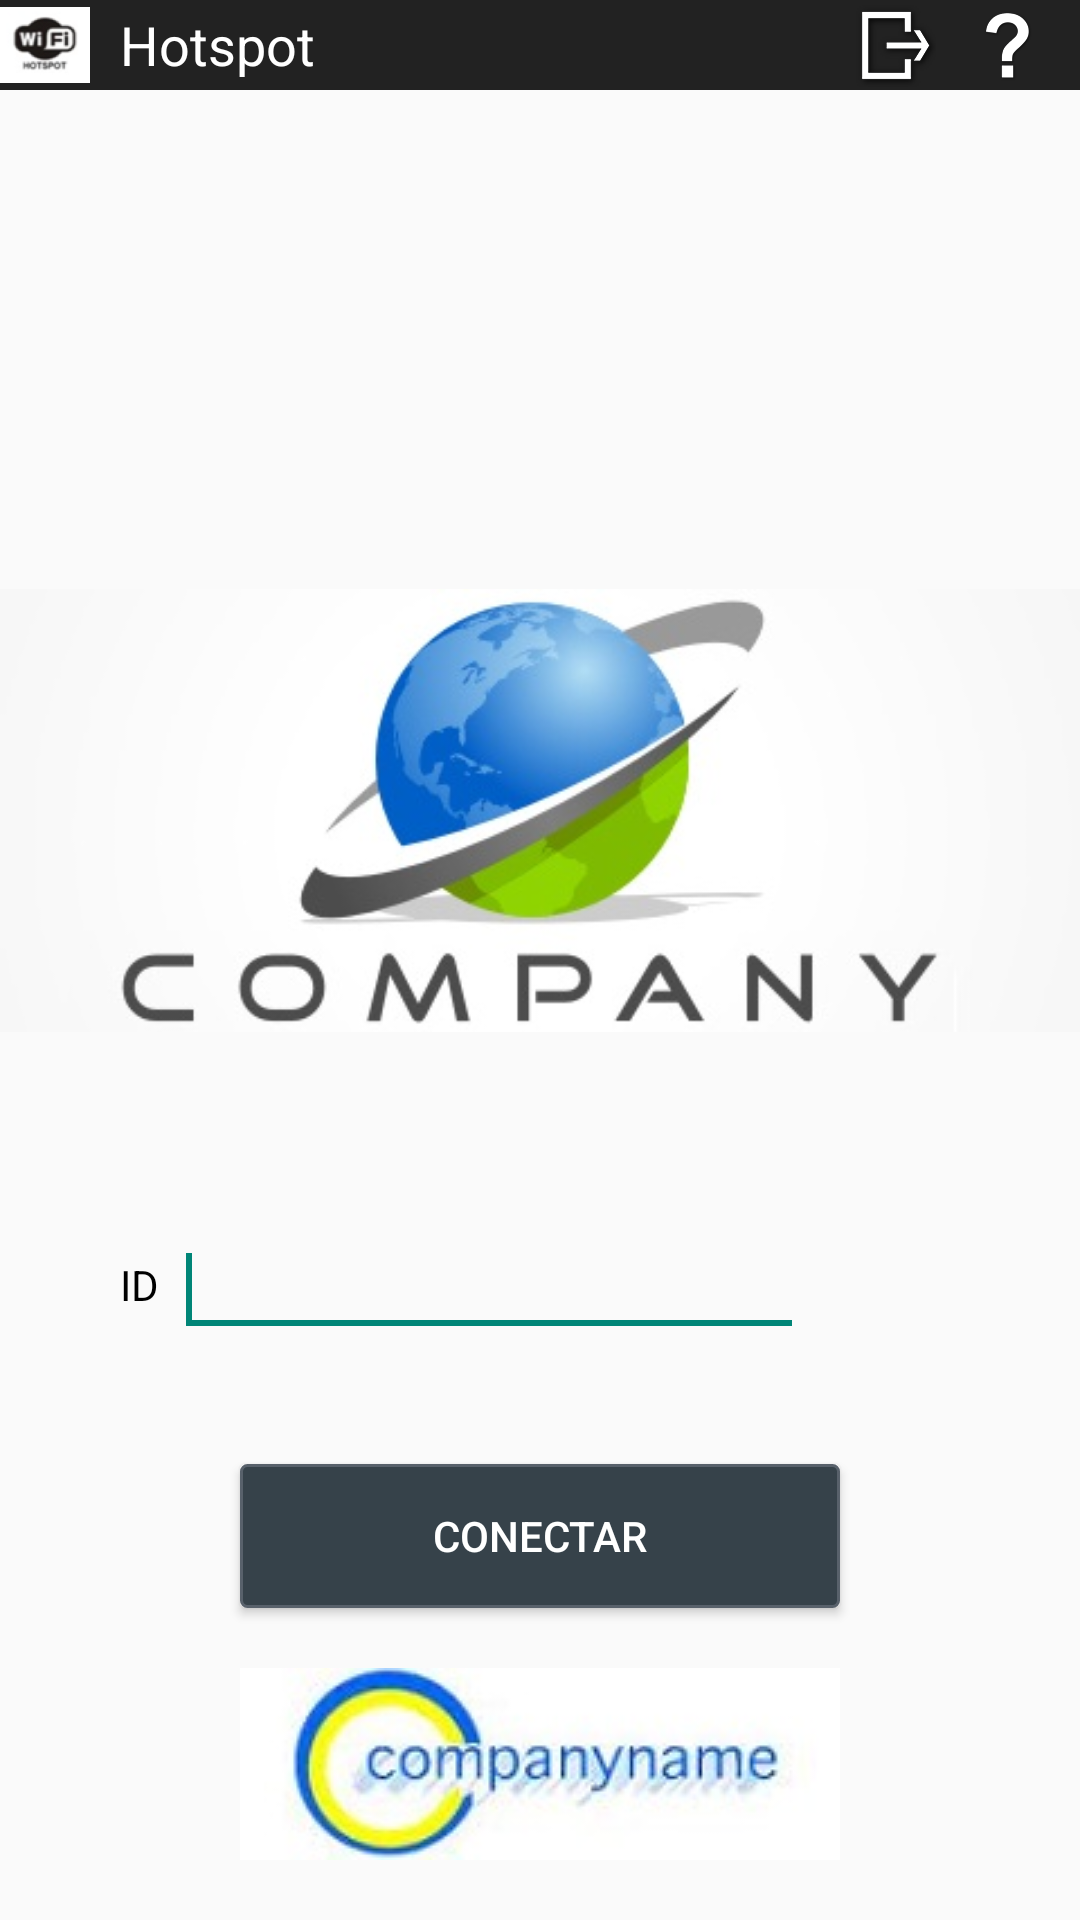

Named icons in this screenshot (1080x1920) and their bounding boxes, Rect(x1, y1, x2, y2):
ajuda: Rect(986, 13, 1029, 78)
